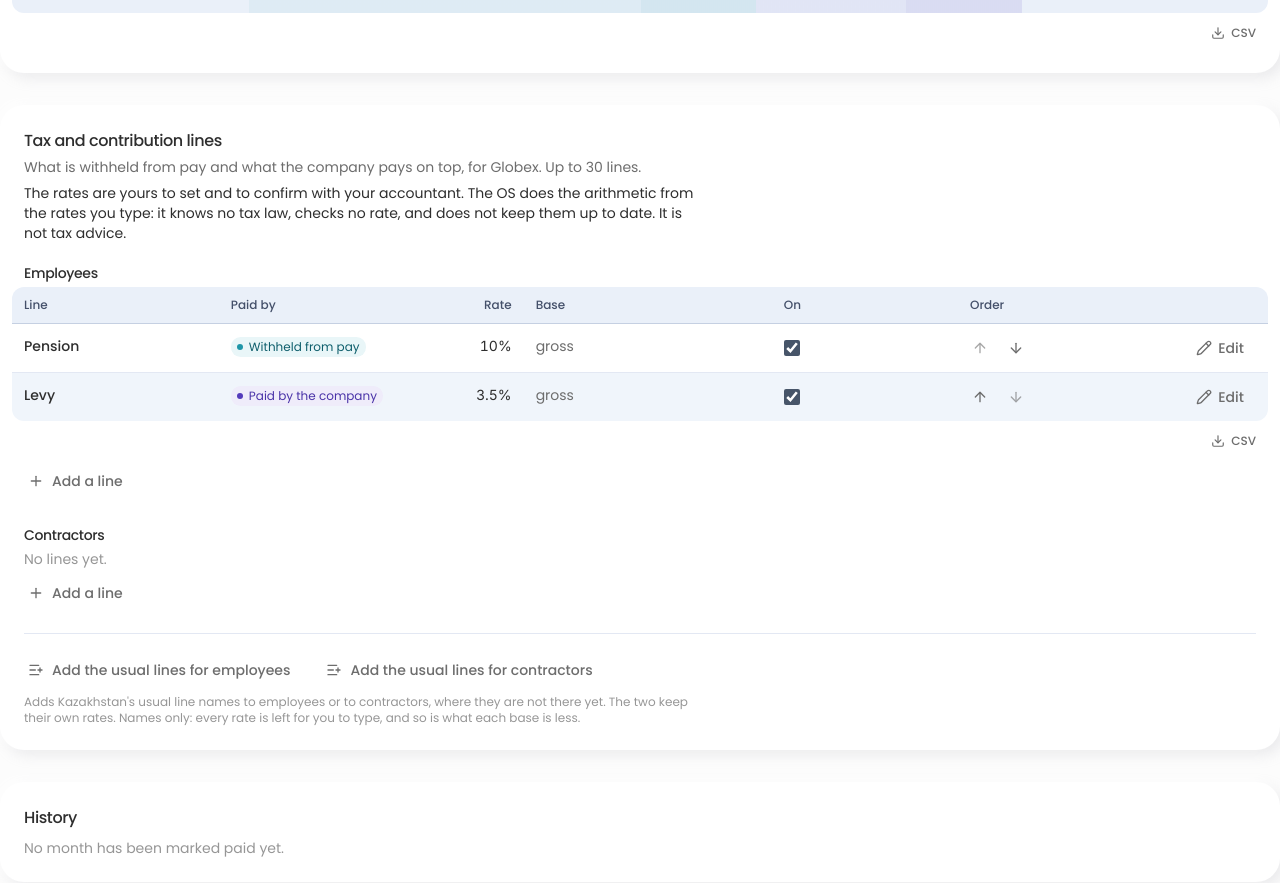
PayrollView: tax and contribution lines › when the usual lines are all there, that is said
(page scrolled)
Click the button "Add the usual lines for employees". click: [159, 670]
box: 12,650 -> 306,690
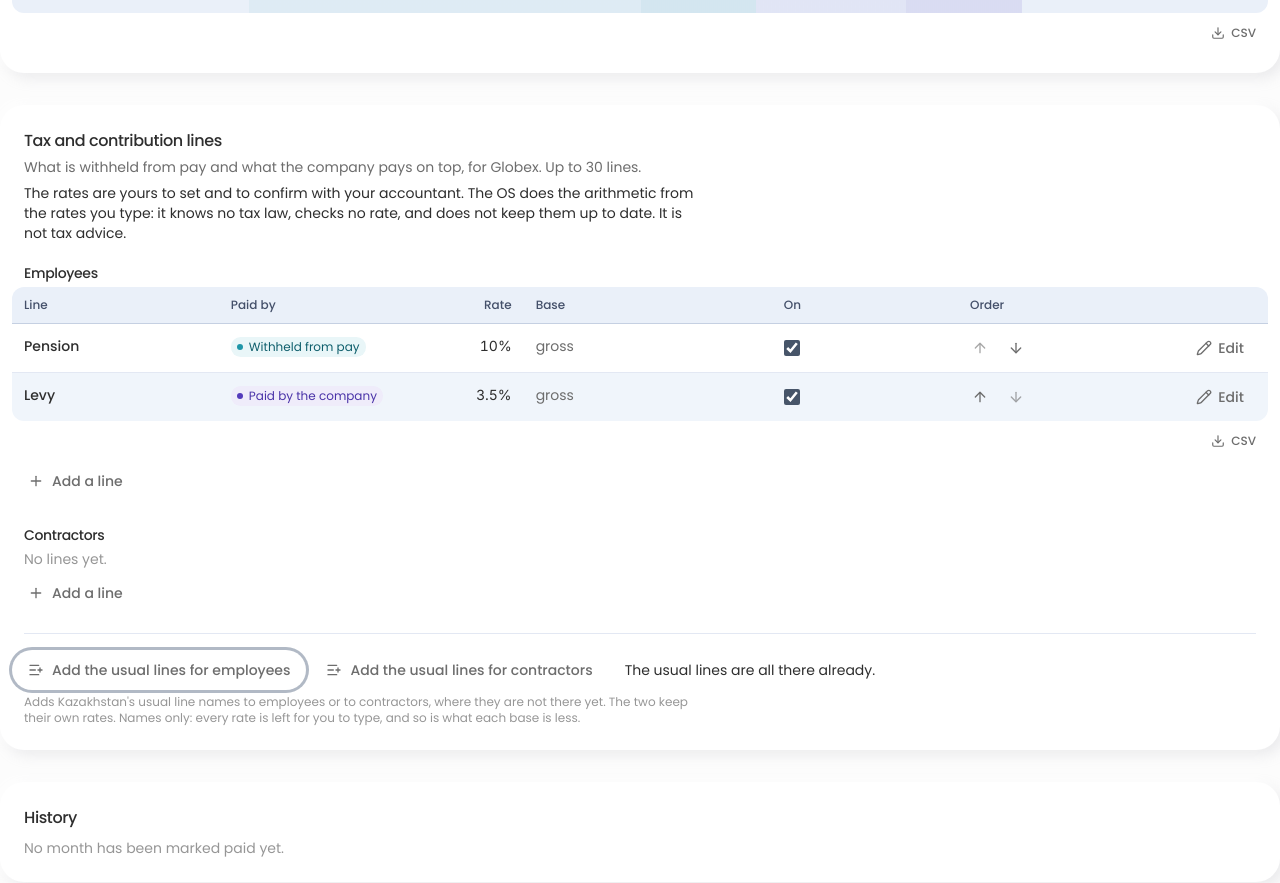
Result: the text "The usual lines are all there already." is shown at 625,660 -> 875,680
